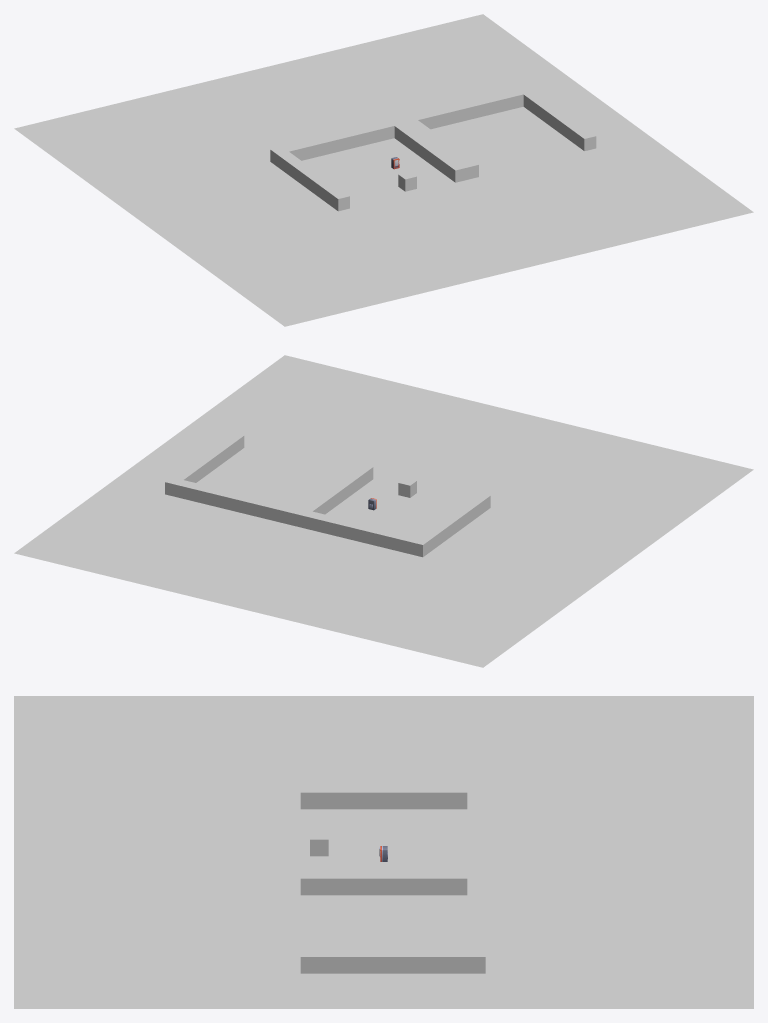
File: level-002.glb
3 renders of one model, top to bottom at view 1: azimuth 30°, elevation 25°; view 2: azimuth 150°, elevation 25°; view 3: azimuth 270°, elevation 25°, orthographic. The views are drawn at different scales.
Parts seen in each view (by area): view 1: Floor.003, Cube.006, Cube.009, Cube.008, Cube.005, Cube.004, Cube.007, CustomerNpcSpawner; view 2: Floor.003, Cube.006, Cube.009, Cube.004, Cube.005, Cube.008, CustomerNpcSpawner, Cube.007; view 3: Floor.003, Cube.008, Cube.004, Cube.007, Cube.009, Cube.006, CustomerNpcSpawner, Cube.005.
Part boxes in pixels (left/top/right/bottom): Floor.003: left=14, top=14, right=753, bottom=326; Cube.006: left=270, top=118, right=405, bottom=166; Cube.009: left=400, top=86, right=534, bottom=129; Cube.008: left=523, top=91, right=596, bottom=151; Cube.005: left=394, top=123, right=467, bottom=182; Cube.004: left=277, top=151, right=349, bottom=211; Cube.007: left=406, top=120, right=478, bottom=179; CustomerNpcSpawner: left=449, top=188, right=571, bottom=221; Floor.003: left=14, top=355, right=753, bottom=667; Cube.006: left=294, top=509, right=429, bottom=557; Cube.009: left=165, top=477, right=300, bottom=525; Cube.004: left=418, top=492, right=490, bottom=551; Cube.005: left=301, top=464, right=373, bottom=514; Cube.008: left=172, top=432, right=244, bottom=482; CustomerNpcSpawner: left=331, top=429, right=454, bottom=462; Cube.007: left=289, top=461, right=361, bottom=508; Floor.003: left=14, top=696, right=753, bottom=1008; Cube.008: left=300, top=949, right=467, bottom=973; Cube.004: left=300, top=785, right=467, bottom=809; Cube.007: left=300, top=871, right=467, bottom=895; Cube.009: left=467, top=871, right=485, bottom=973; Cube.006: left=467, top=785, right=485, bottom=870; CustomerNpcSpawner: left=189, top=850, right=208, bottom=928; Cube.005: left=300, top=863, right=467, bottom=870.
Bounding box in the file's own units: 40 × 1 × 40.
Materials: 1 (1 with a texture image).
